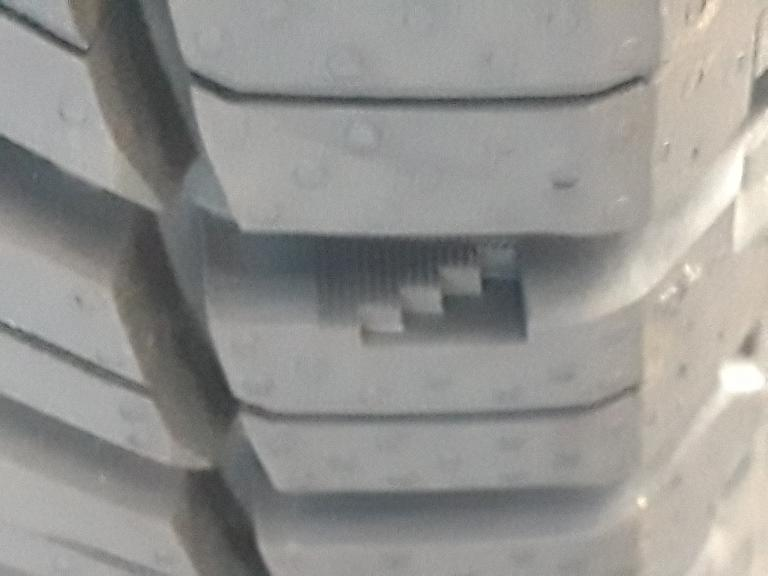temoin:100: (307, 229, 542, 358)
